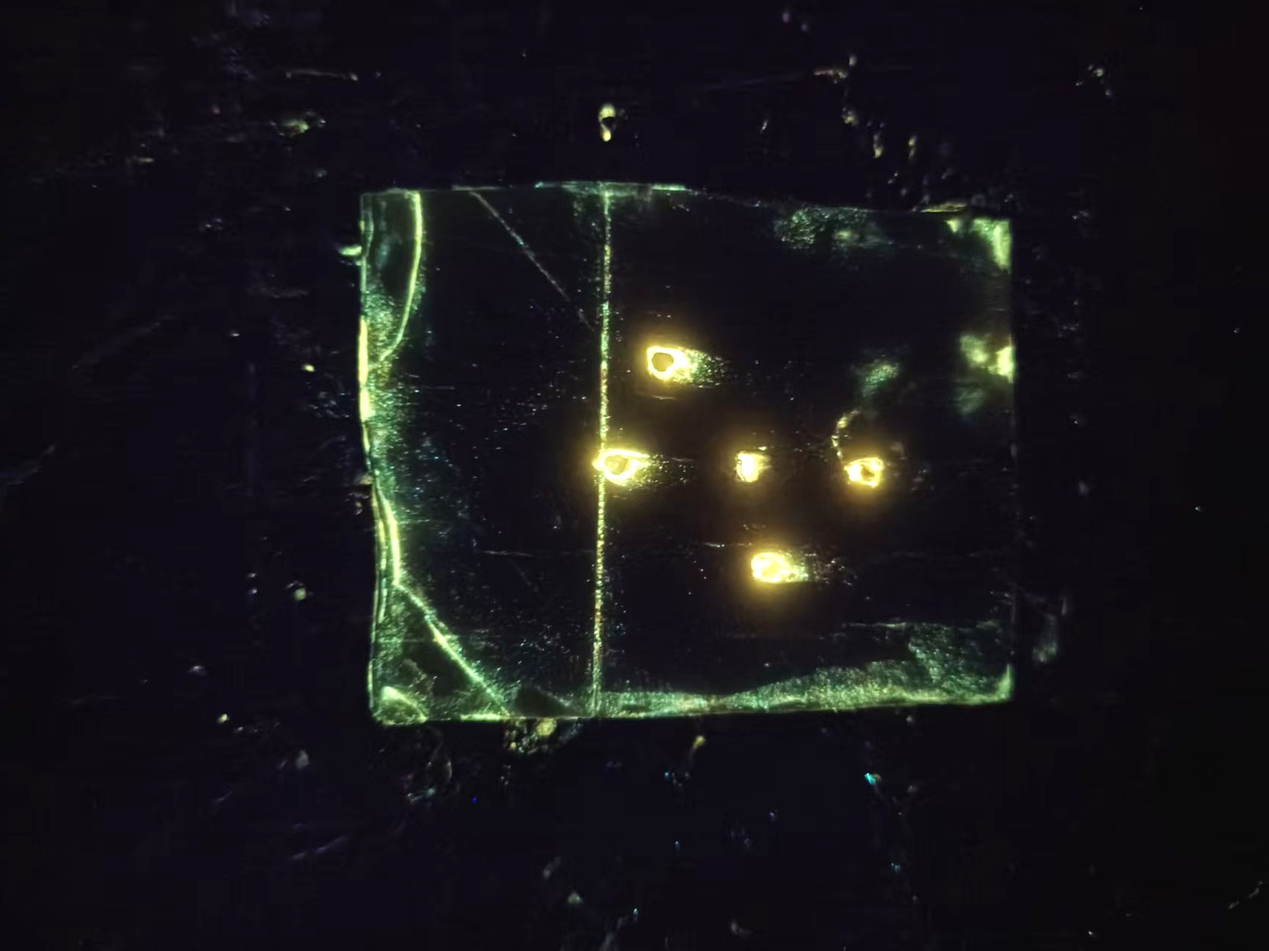Crater: (721, 535, 845, 605), (810, 433, 896, 508), (709, 432, 790, 506), (587, 435, 665, 499), (631, 332, 702, 400)
